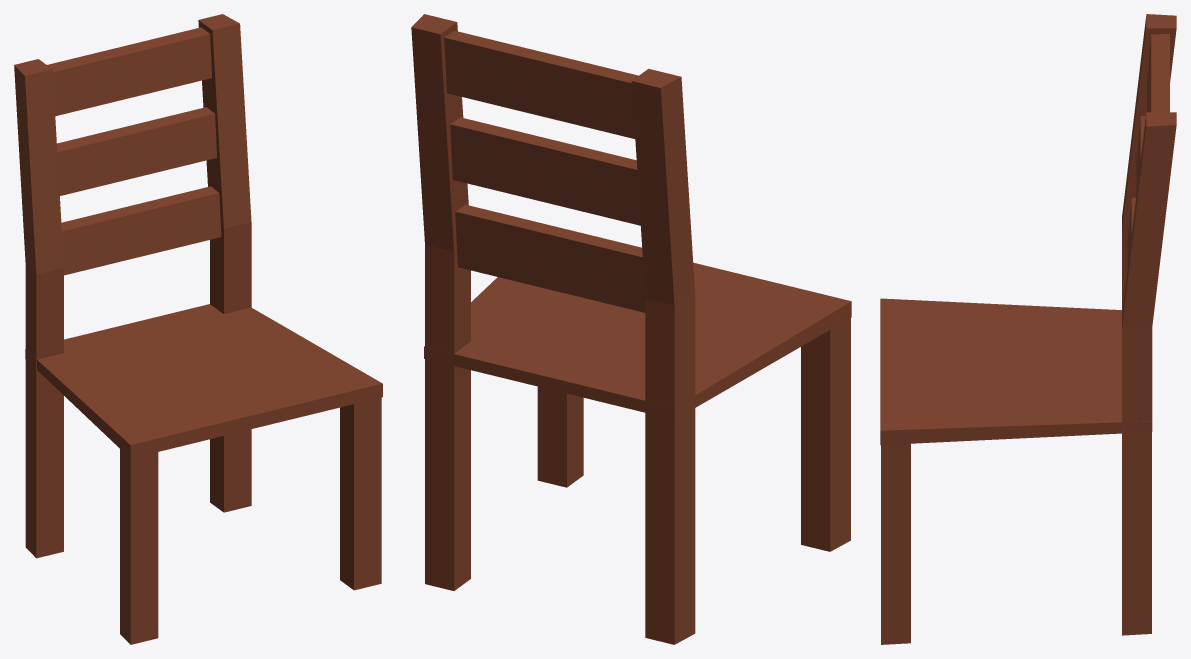
File: Seat.1.fbx
3 views of the same model, side by side, from view 1: azimuth 30°, elevation 25°; view 2: azimuth 150°, elevation 25°; view 3: azimuth 270°, elevation 25° (orthographic). The views are drawn at different scales.
Parts seen in each view (by area): view 1: Seat.1; view 2: Seat.1; view 3: Seat.1.
Boxes of the visible parts, x1,y1,x2,y2 form: Seat.1: [14, 14, 382, 644]; Seat.1: [411, 14, 851, 644]; Seat.1: [880, 14, 1176, 644].
Bounding box in the file's own units: 35.14 × 63.08 × 33.28.
